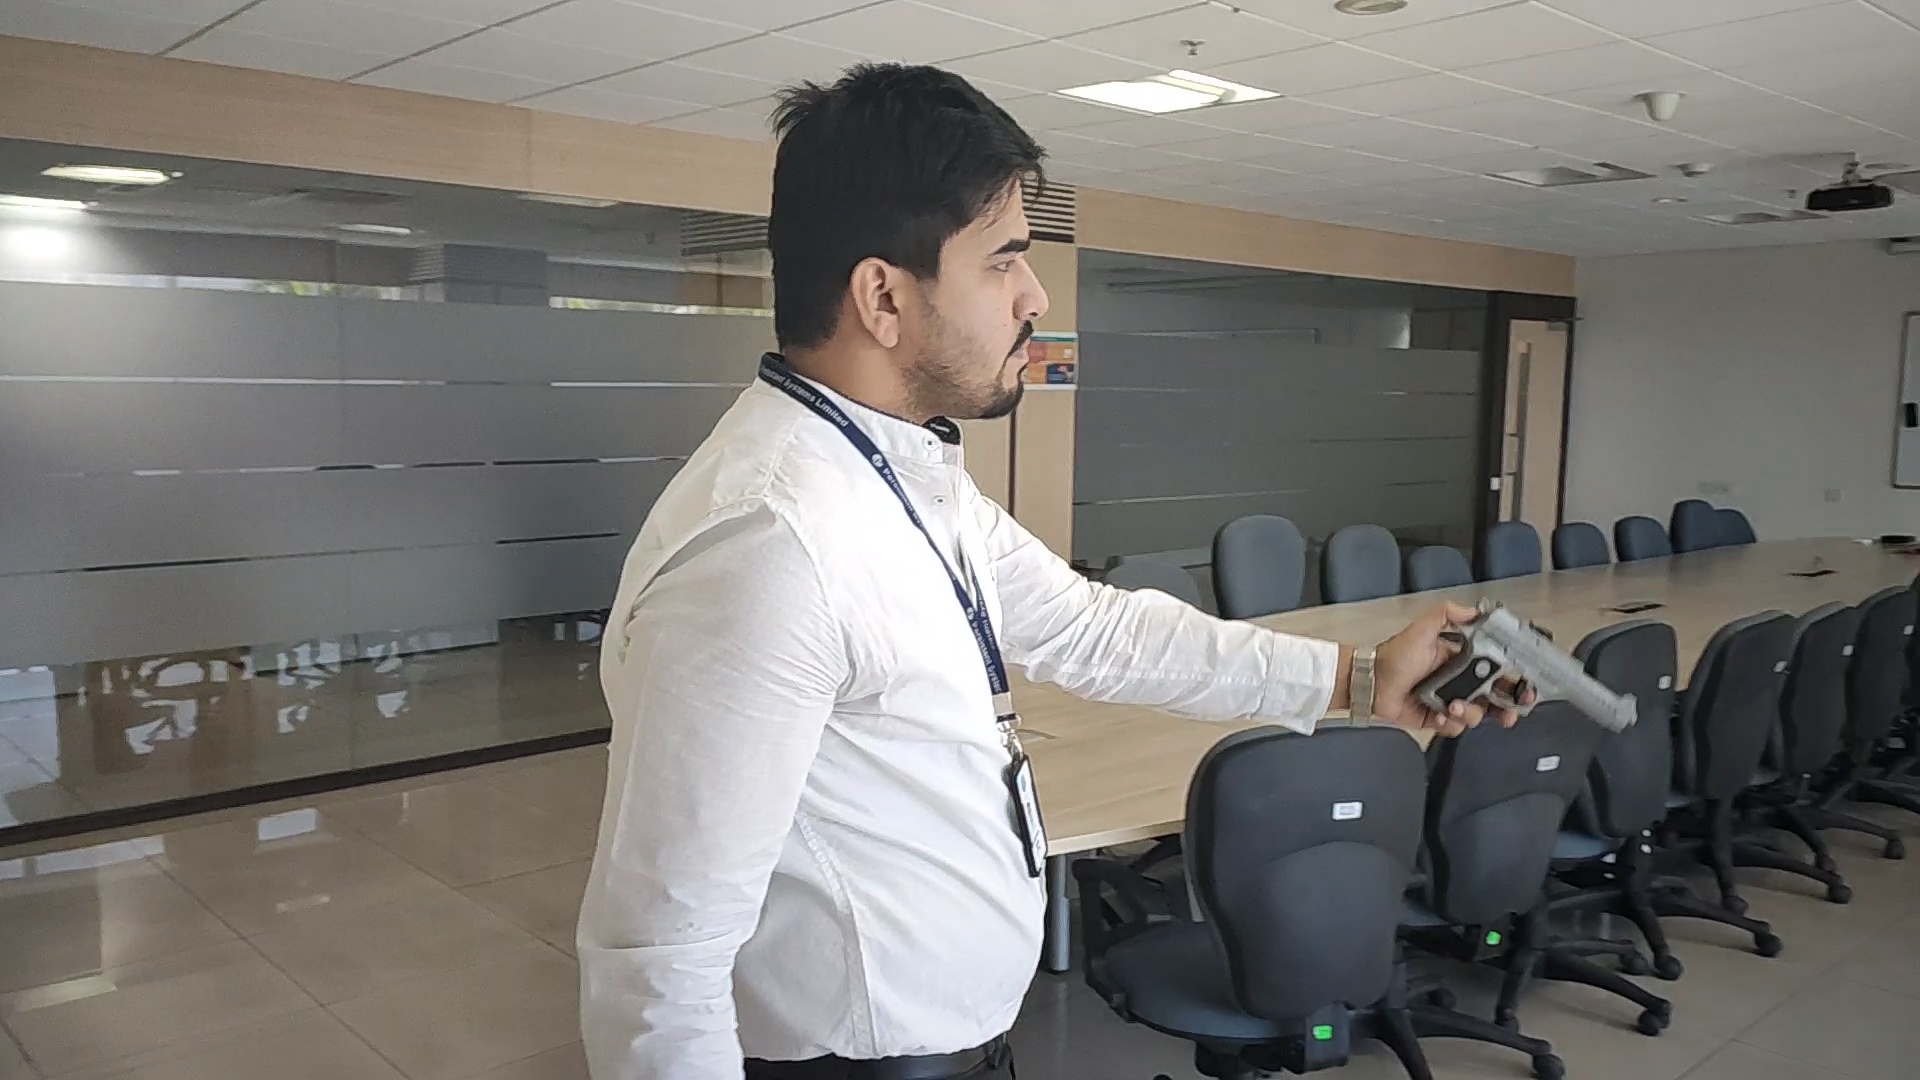gun: (1423, 600, 1635, 731)
